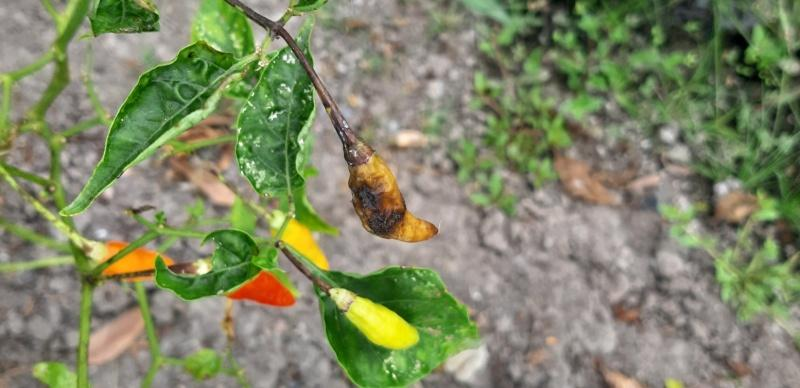antraknosa: (343, 151, 441, 242), (327, 285, 421, 349)
cabai_normal: (210, 259, 298, 305), (91, 240, 176, 282), (271, 211, 330, 271)
